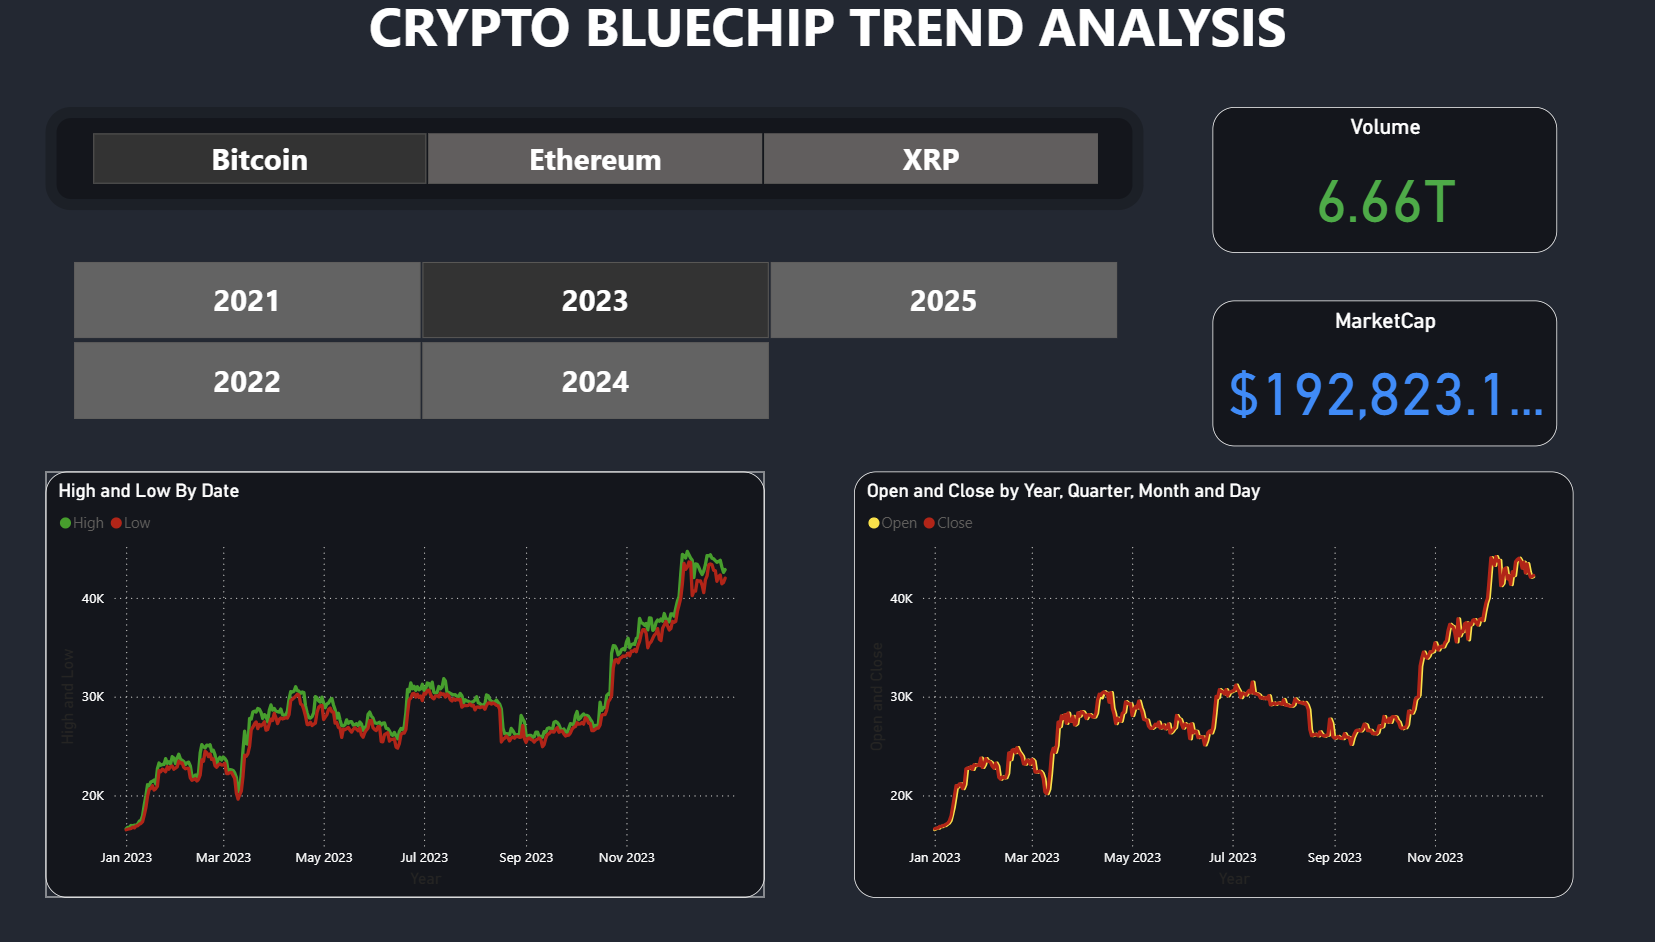

This screenshot's page, from the dashboard's own definition file:
{"tool":"powerbi","page":{"name":"Page 2","canvas":[1500,900],"ordinal":1},"visuals":[{"type":"slicer","fields":{"Values":["crypto_data_2021_2025.Name"]},"box":[41.8,141.5,993.8,93.3],"z":0},{"type":"slicer","fields":{"Values":["crypto_data_2021_2025.Year"]},"box":[42,274,994,156],"z":1000},{"type":"lineChart","title":"High and Low By Date","fields":{"Category":["crypto_data_2021_2025.Date.Variation.Date Hierarchy.Year","crypto_data_2021_2025.Date.Variation.Date Hierarchy.Quarter","crypto_data_2021_2025.Date.Variation.Date Hierarchy.Month","crypto_data_2021_2025.Date.Variation.Date Hierarchy.Day"],"Y":["Sum(crypto_data_2021_2025.High_Fixed)","Sum(crypto_data_2021_2025.Low_Fixed)"]},"box":[41.8,471.2,651.3,385.9],"z":2000},{"type":"textbox","box":[330,28.6,974.3,64.3],"z":4000},{"type":"card","title":"MarketCap","fields":{"Values":["Sum(crypto_data_2021_2025.Marketcap)"]},"box":[1098.3,316.8,312,131.9],"z":5000},{"type":"card","title":"Volume","fields":{"Values":["Sum(crypto_data_2021_2025.Volume_Fixed)"]},"box":[1098.3,141.5,312,131.9],"z":6000},{"type":"lineChart","fields":{"Category":["crypto_data_2021_2025.Date.Variation.Date Hierarchy.Year","crypto_data_2021_2025.Date.Variation.Date Hierarchy.Quarter","crypto_data_2021_2025.Date.Variation.Date Hierarchy.Month","crypto_data_2021_2025.Date.Variation.Date Hierarchy.Day"],"Y":["Sum(crypto_data_2021_2025.Open_Fixed)","Sum(crypto_data_2021_2025.Close_Fixed)"]},"box":[773.5,471.2,651.3,385.9],"z":7000}]}

Visuals, with their boxes on the page's 1500x900 design canvas (x1, y1, x2, y2). These are canvas units, not pixel positions in the 1655x942 screenshot, which may show the page scaled, cropped or inside an application window:
slicer - crypto_data_2021_2025.Name: pyautogui.locateOnScreen(42, 142, 1036, 235)
slicer - crypto_data_2021_2025.Year: pyautogui.locateOnScreen(42, 274, 1036, 430)
"High and Low By Date" lineChart: pyautogui.locateOnScreen(42, 471, 693, 857)
textbox: pyautogui.locateOnScreen(330, 29, 1304, 93)
"MarketCap" card: pyautogui.locateOnScreen(1098, 317, 1410, 449)
"Volume" card: pyautogui.locateOnScreen(1098, 142, 1410, 273)
lineChart - crypto_data_2021_2025.Date.Variation.Date Hierarchy.Year x crypto_data_2021_2025.Date.Variation.Date Hierarchy.Quarter: pyautogui.locateOnScreen(774, 471, 1425, 857)
